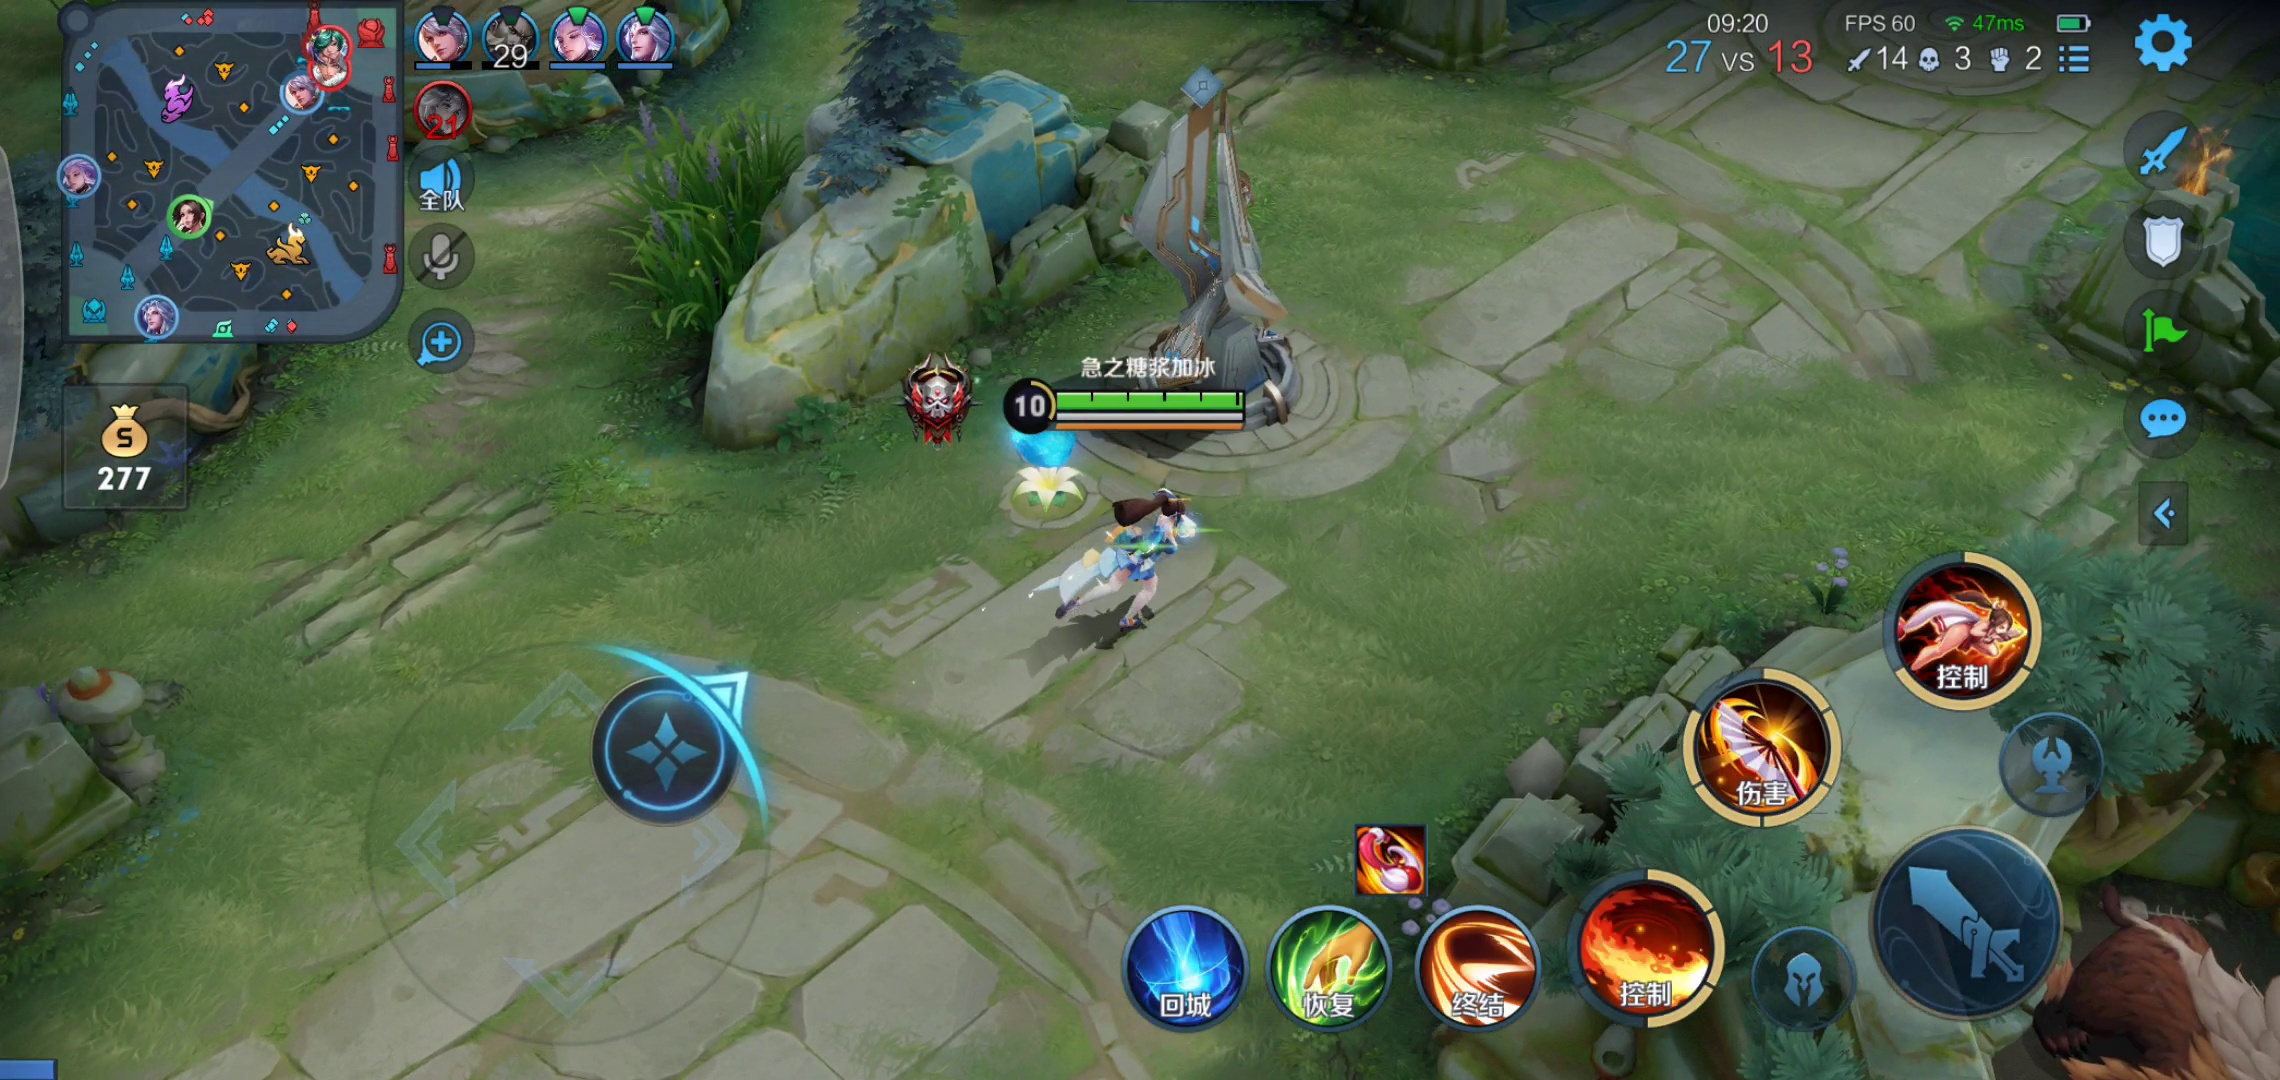grass: (595, 109, 772, 334)
hero: (1057, 490, 1216, 644)
tower: (1082, 71, 1325, 435)
wild_monster: (2074, 877, 2279, 1080)
